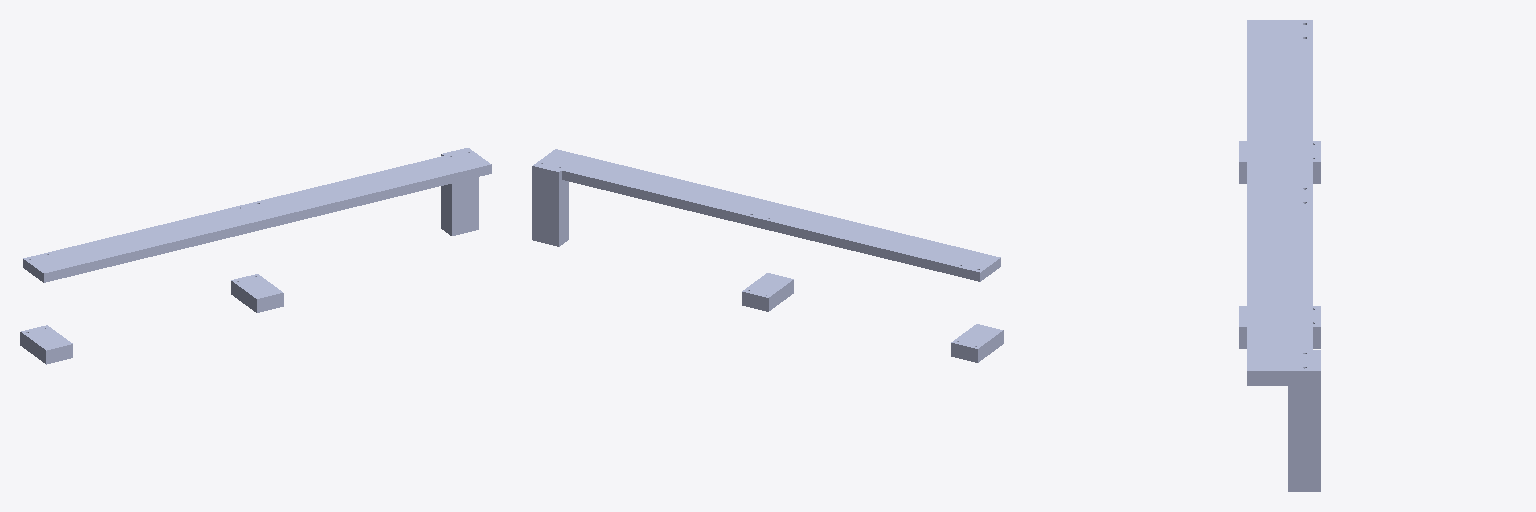
The robot description file, URDF, robot "mockup":
<robot
  name="mockup">
  <link
    name="base_link">
    <inertial>
      <origin
        xyz="0.00058212294029869 -0.000288787516209759 0.0500876489030859"
        rpy="0 0 0" />
      <mass
        value="0.0224018252295753" />
      <inertia
        ixx="5.06846023965497E-06"
        ixy="1.29525743021127E-24"
        ixz="-3.33479486220217E-22"
        iyy="6.3256638175295E-06"
        iyz="4.93025079858009E-09"
        izz="2.09808476900114E-06" />
    </inertial>
    <visual>
      <origin
        xyz="0 0 0"
        rpy="0 0 0" />
      <geometry>
        <mesh
          filename="package://mockup/meshes/base_link.STL" />
      </geometry>
      <material
        name="">
        <color
          rgba="0.792156862745098 0.819607843137255 0.933333333333333 1" />
      </material>
    </visual>
    <collision>
      <origin
        xyz="0 0 0"
        rpy="0 0 0" />
      <geometry>
        <mesh
          filename="package://mockup/meshes/base_link.STL" />
      </geometry>
    </collision>
  </link>
  <link
    name="leg1-1">
    <inertial>
      <origin
        xyz="-0.015 0.0363855644816041 -0.0102484577173933"
        rpy="0 0 0" />
      <mass
        value="0.0433036504591506" />
      <inertia
        ixx="2.07833110419417E-05"
        ixy="1.34383581090448E-21"
        ixz="-2.70490306451324E-22"
        iyy="4.72508409065181E-06"
        iyz="-4.49818752520106E-07"
        izz="2.25438036450412E-05" />
    </inertial>
    <visual>
      <origin
        xyz="0 0 0"
        rpy="0 0 0" />
      <geometry>
        <mesh
          filename="package://mockup/meshes/leg1-1.STL" />
      </geometry>
      <material
        name="">
        <color
          rgba="0.792156862745098 0.819607843137255 0.933333333333333 1" />
      </material>
    </visual>
    <collision>
      <origin
        xyz="0 0 0"
        rpy="0 0 0" />
      <geometry>
        <mesh
          filename="package://mockup/meshes/leg1-1.STL" />
      </geometry>
    </collision>
  </link>
  <joint
    name="leg1-1-joint"
    type="fixed">
    <origin
      xyz="0.0155821229402987 -0.045 0.00722216859667598"
      rpy="1.5707963267949 0 0" />
    <parent
      link="base_link" />
    <child
      link="leg1-1" />
    <axis
      xyz="0 0 0" />
  </joint>
  <link
    name="foot2-1">
    <inertial>
      <origin
        xyz="-0.015 0.00748904388711427 -0.0249123510969141"
        rpy="0 0 0" />
      <mass
        value="0.0224018252295753" />
      <inertia
        ixx="5.06846023965497E-06"
        ixy="-7.16526759544816E-24"
        ixz="-5.12172323933567E-22"
        iyy="6.3256638175295E-06"
        iyz="4.93025079858009E-09"
        izz="2.09808476900114E-06" />
    </inertial>
    <visual>
      <origin
        xyz="0 0 0"
        rpy="0 0 0" />
      <geometry>
        <mesh
          filename="package://mockup/meshes/foot2-1.STL" />
      </geometry>
      <material
        name="">
        <color
          rgba="0.792156862745098 0.819607843137255 0.933333333333333 1" />
      </material>
    </visual>
    <collision>
      <origin
        xyz="0 0 0"
        rpy="0 0 0" />
      <geometry>
        <mesh
          filename="package://mockup/meshes/foot2-1.STL" />
      </geometry>
    </collision>
  </link>
  <joint
    name="foot2-1-joint"
    type="fixed">
    <origin
      xyz="0.250582122940299 -0.075 -0.00777783140332399"
      rpy="1.5707963267949 0 0" />
    <parent
      link="base_link" />
    <child
      link="foot2-1" />
    <axis
      xyz="0 0 0" />
  </joint>
  <link
    name="foot3-1">
    <inertial>
      <origin
        xyz="-0.015 0.00748904388711427 -0.0249123510969141"
        rpy="0 0 0" />
      <mass
        value="0.0224018252295753" />
      <inertia
        ixx="5.06846023965496E-06"
        ixy="1.49418149565374E-22"
        ixz="-4.6574788441216E-24"
        iyy="6.32566381752949E-06"
        iyz="4.93025079858009E-09"
        izz="2.09808476900113E-06" />
    </inertial>
    <visual>
      <origin
        xyz="0 0 0"
        rpy="0 0 0" />
      <geometry>
        <mesh
          filename="package://mockup/meshes/foot3-1.STL" />
      </geometry>
      <material
        name="">
        <color
          rgba="0.792156862745098 0.819607843137255 0.933333333333333 1" />
      </material>
    </visual>
    <collision>
      <origin
        xyz="0 0 0"
        rpy="0 0 0" />
      <geometry>
        <mesh
          filename="package://mockup/meshes/foot3-1.STL" />
      </geometry>
    </collision>
  </link>
  <joint
    name="foot3-1-joint"
    type="fixed">
    <origin
      xyz="0.485582122940299 -0.075 -0.00777783140332402"
      rpy="1.5707963267949 0 0" />
    <parent
      link="base_link" />
    <child
      link="foot3-1" />
    <axis
      xyz="0 0 0" />
  </joint>
  <link
    name="leg2_modify-1">
    <inertial>
      <origin
        xyz="-0.015 0.0363855644816041 -0.0102484577173933"
        rpy="0 0 0" />
      <mass
        value="0.0433036504591506" />
      <inertia
        ixx="2.07833110419417E-05"
        ixy="1.12577411975672E-21"
        ixz="-4.03783154775522E-22"
        iyy="4.72508409065181E-06"
        iyz="-4.49818752520106E-07"
        izz="2.25438036450412E-05" />
    </inertial>
    <visual>
      <origin
        xyz="0 0 0"
        rpy="0 0 0" />
      <geometry>
        <mesh
          filename="package://mockup/meshes/leg2_modify-1.STL" />
      </geometry>
      <material
        name="">
        <color
          rgba="0.792156862745098 0.819607843137255 0.933333333333333 1" />
      </material>
    </visual>
    <collision>
      <origin
        xyz="0 0 0"
        rpy="0 0 0" />
      <geometry>
        <mesh
          filename="package://mockup/meshes/leg2_modify-1.STL" />
      </geometry>
    </collision>
  </link>
  <joint
    name="leg2_modify-1-joint"
    type="fixed">
    <origin
      xyz="0.250582122940299 -0.045 0.00722216859667602"
      rpy="1.5707963267949 0 0" />
    <parent
      link="base_link" />
    <child
      link="leg2_modify-1" />
    <axis
      xyz="0 0 0" />
  </joint>
  <link
    name="leg3_modify-1">
    <inertial>
      <origin
        xyz="-0.015 0.0363855644816041 -0.0102484577173933"
        rpy="0 0 0" />
      <mass
        value="0.0433036504591507" />
      <inertia
        ixx="2.07833110419417E-05"
        ixy="1.4950020181051E-21"
        ixz="-1.7142096693701E-22"
        iyy="4.72508409065182E-06"
        iyz="-4.49818752520106E-07"
        izz="2.25438036450413E-05" />
    </inertial>
    <visual>
      <origin
        xyz="0 0 0"
        rpy="0 0 0" />
      <geometry>
        <mesh
          filename="package://mockup/meshes/leg3_modify-1.STL" />
      </geometry>
      <material
        name="">
        <color
          rgba="0.792156862745098 0.819607843137255 0.933333333333333 1" />
      </material>
    </visual>
    <collision>
      <origin
        xyz="0 0 0"
        rpy="0 0 0" />
      <geometry>
        <mesh
          filename="package://mockup/meshes/leg3_modify-1.STL" />
      </geometry>
    </collision>
  </link>
  <joint
    name="leg3_modify-1-joint"
    type="fixed">
    <origin
      xyz="0.485582122940299 -0.045 0.00722216859667596"
      rpy="1.5707963267949 0 0" />
    <parent
      link="base_link" />
    <child
      link="leg3_modify-1" />
    <axis
      xyz="0 0 0" />
  </joint>
  <link
    name="bar-1">
    <inertial>
      <origin
        xyz="-0.25 0.005 -0.0200221219005331"
        rpy="0 0 0" />
      <mass
        value="0.199705475688726" />
      <inertia
        ixx="2.82643982139142E-05"
        ixy="-3.2393006184842E-19"
        ixz="1.02539742052652E-20"
        iyy="0.00418239388171009"
        iyz="1.70801236625673E-21"
        izz="0.00415745790809098" />
    </inertial>
    <visual>
      <origin
        xyz="0 0 0"
        rpy="0 0 0" />
      <geometry>
        <mesh
          filename="package://mockup/meshes/bar-1.STL" />
      </geometry>
      <material
        name="">
        <color
          rgba="0.792156862745098 0.819607843137255 0.933333333333333 1" />
      </material>
    </visual>
    <collision>
      <origin
        xyz="0 0 0"
        rpy="0 0 0" />
      <geometry>
        <mesh
          filename="package://mockup/meshes/bar-1.STL" />
      </geometry>
    </collision>
  </link>
  <joint
    name="bar-1-joint"
    type="fixed">
    <origin
      xyz="0.485582122940299 -0.03 0.087222168596676"
      rpy="-1.5707963267949 0 0" />
    <parent
      link="base_link" />
    <child
      link="bar-1" />
    <axis
      xyz="0 0 0" />
  </joint>
</robot>

--- What the picture shows (computed from the rendered views, not written in the file) ---
Views: 3 orthographic renders of the robot side by side, from view 1: azimuth 30°, elevation 25°; view 2: azimuth 150°, elevation 25°; view 3: azimuth 270°, elevation 25°.
Model mockup with 7 links and 6 joints (6 fixed), rooted at base_link, posed every joint at zero.
Visible links, largest first — view 1: bar-1, leg3_modify-1, base_link, foot2-1; view 2: bar-1, leg3_modify-1, base_link, foot2-1; view 3: bar-1, leg3_modify-1, base_link, foot2-1.
Boxes of the visible links, x1,y1,x2,y2 form: bar-1: (23, 149, 491, 282); leg3_modify-1: (441, 148, 478, 235); base_link: (20, 325, 72, 364); foot2-1: (231, 274, 283, 312); bar-1: (536, 149, 1000, 281); leg3_modify-1: (532, 164, 568, 246); base_link: (951, 324, 1003, 362); foot2-1: (742, 273, 793, 311); bar-1: (1247, 20, 1312, 385); leg3_modify-1: (1288, 350, 1320, 491); base_link: (1239, 141, 1320, 183); foot2-1: (1239, 306, 1320, 348).
Size in the robot's own frame: 0.5 by 0.05 by 0.095 metres.
4 mesh visuals loaded from 7 distinct referenced files (4 binary STL); not drawn: 3 (reference not matched to a file when rendering).